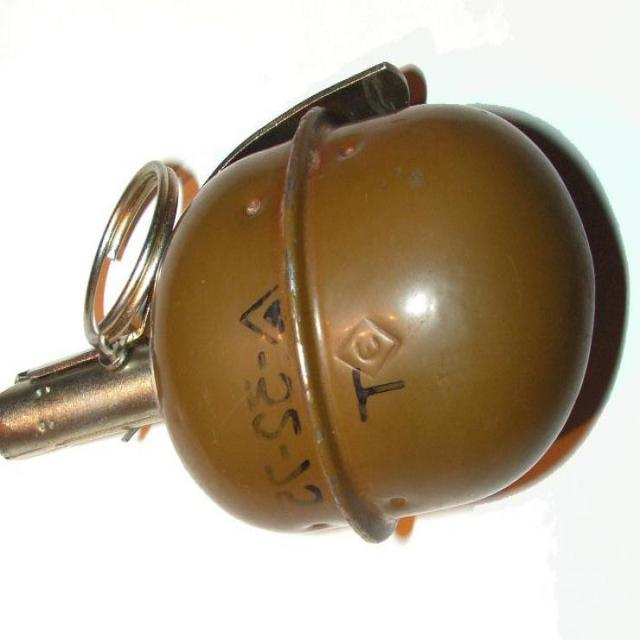grenade: (1, 64, 598, 548)
